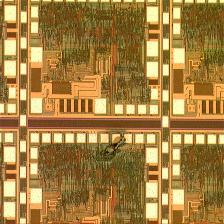PARTICLE: (98, 135, 128, 163)
